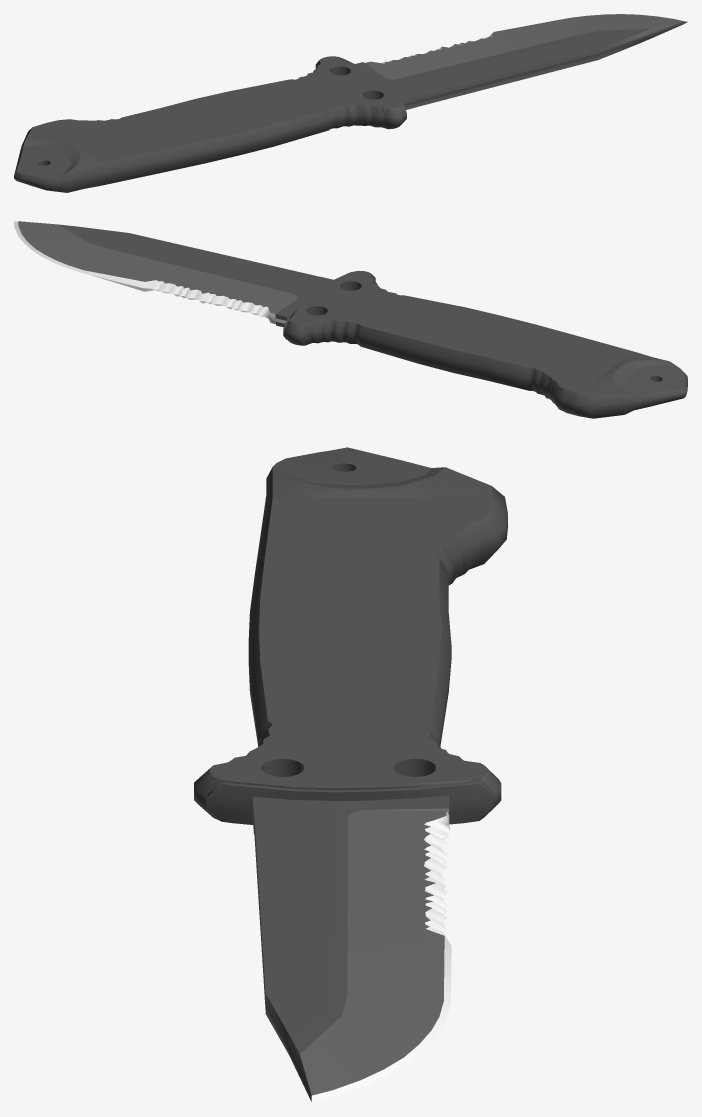
The model's file is gerber_lmf.glb.
3 views of the same model, one above another, from view 1: azimuth 30°, elevation 25°; view 2: azimuth 150°, elevation 25°; view 3: azimuth 270°, elevation 25° (orthographic). The views are drawn at different scales.
Parts seen in each view (by area): view 1: Gerber_LMF; view 2: Gerber_LMF; view 3: Gerber_LMF.
Boxes of the visible parts, x1,y1,x2,y2 form: Gerber_LMF: [14, 14, 687, 192]; Gerber_LMF: [14, 221, 687, 418]; Gerber_LMF: [194, 447, 507, 1102].
Size of the model in its own units: 16.3 by 0.5948 by 3.33.
2 materials, 2 textured.
